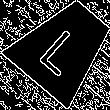L_NE: (35, 19, 92, 77)
